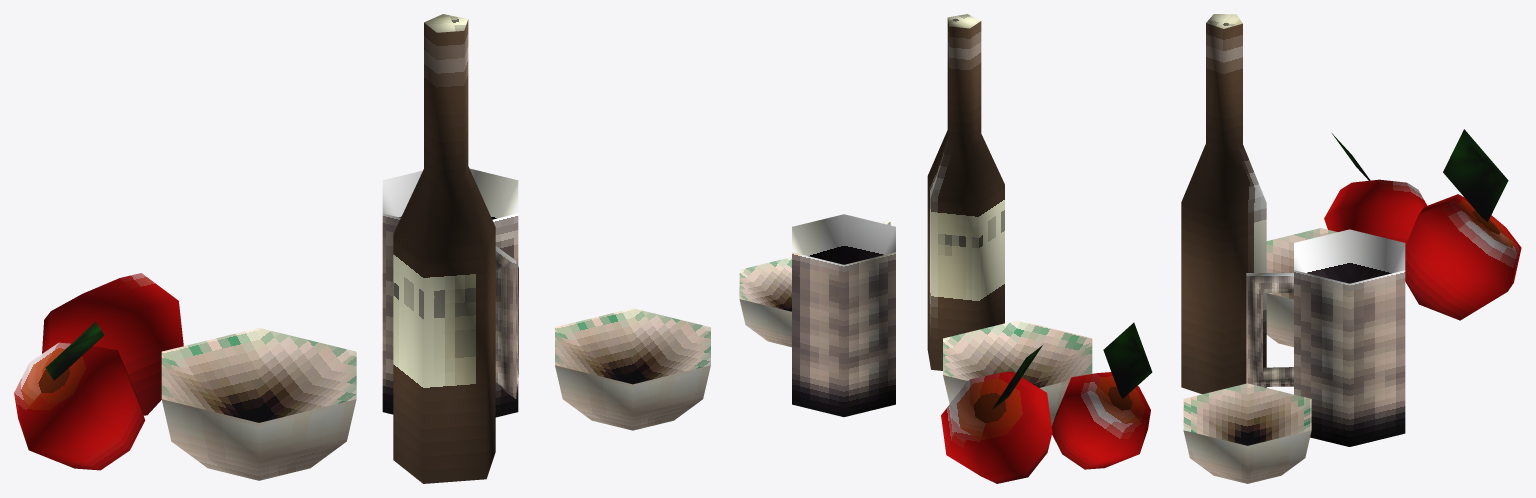
Rendered from Beer02.obj.
3 views of the same model, side by side, from view 1: azimuth 30°, elevation 25°; view 2: azimuth 150°, elevation 25°; view 3: azimuth 270°, elevation 25° (orthographic). The views are drawn at different scales.
Visible parts, largest first — view 1: Mesh_3, Mesh_2, Mesh_1, Mesh_4, Mesh_0; view 2: Mesh_4, Mesh_2, Mesh_1, Mesh_3, Mesh_0; view 3: Mesh_4, Mesh_2, Mesh_1, Mesh_3, Mesh_0.
Boxes of the visible parts, bbox=[...] form: Mesh_3: bbox=[161, 308, 710, 480]; Mesh_2: bbox=[393, 14, 495, 483]; Mesh_1: bbox=[14, 273, 183, 470]; Mesh_4: bbox=[382, 168, 518, 417]; Mesh_0: bbox=[45, 322, 104, 380]; Mesh_4: bbox=[792, 214, 895, 416]; Mesh_2: bbox=[927, 14, 1004, 370]; Mesh_1: bbox=[941, 371, 1150, 483]; Mesh_3: bbox=[739, 257, 1092, 426]; Mesh_0: bbox=[992, 322, 1152, 409]; Mesh_4: bbox=[1246, 229, 1405, 446]; Mesh_2: bbox=[1181, 14, 1266, 394]; Mesh_1: bbox=[1324, 179, 1521, 320]; Mesh_3: bbox=[1183, 228, 1337, 483]; Mesh_0: bbox=[1332, 129, 1508, 221].
Size of the model in its own units: 0.8823 by 0.6227 by 0.5189.
5 materials, 5 textured.
